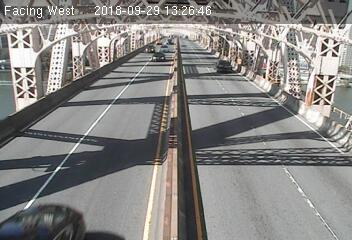car: (1, 197, 92, 240), (211, 59, 237, 74), (151, 51, 164, 63), (145, 44, 155, 52)
